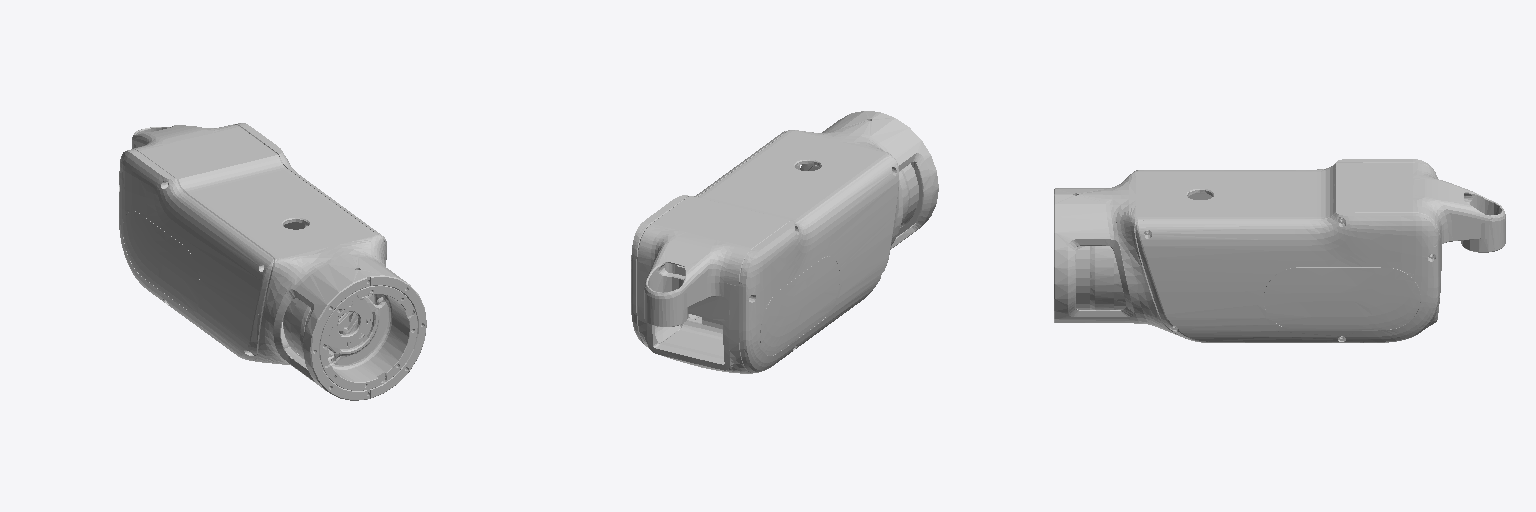
File: right_hand_yaw_link.obj
3 views of the same model, side by side, from view 1: azimuth 30°, elevation 25°; view 2: azimuth 150°, elevation 25°; view 3: azimuth 270°, elevation 25° (orthographic).
Parts seen in each view (by area): view 1: right_hand_yaw_link; view 2: right_hand_yaw_link; view 3: right_hand_yaw_link.
Boxes of the visible parts, x1,y1,x2,y2 form: right_hand_yaw_link: [119, 123, 426, 400]; right_hand_yaw_link: [631, 111, 938, 373]; right_hand_yaw_link: [1054, 159, 1505, 342].
Size of the model in its own units: 0.0676 by 0.0694 by 0.207.